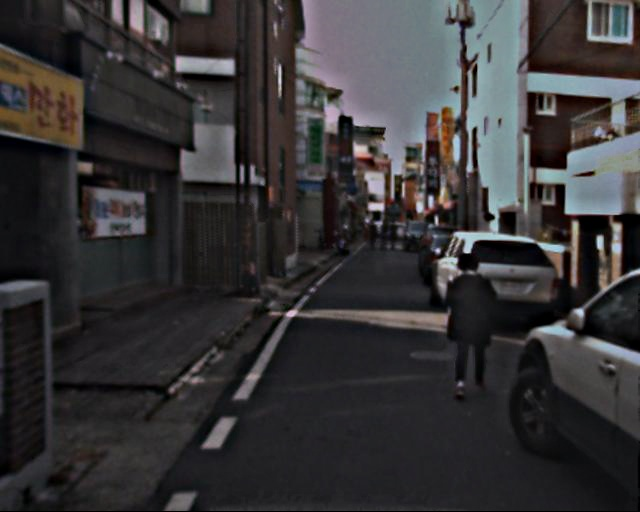person: (438, 252, 500, 399), (371, 218, 402, 254)
